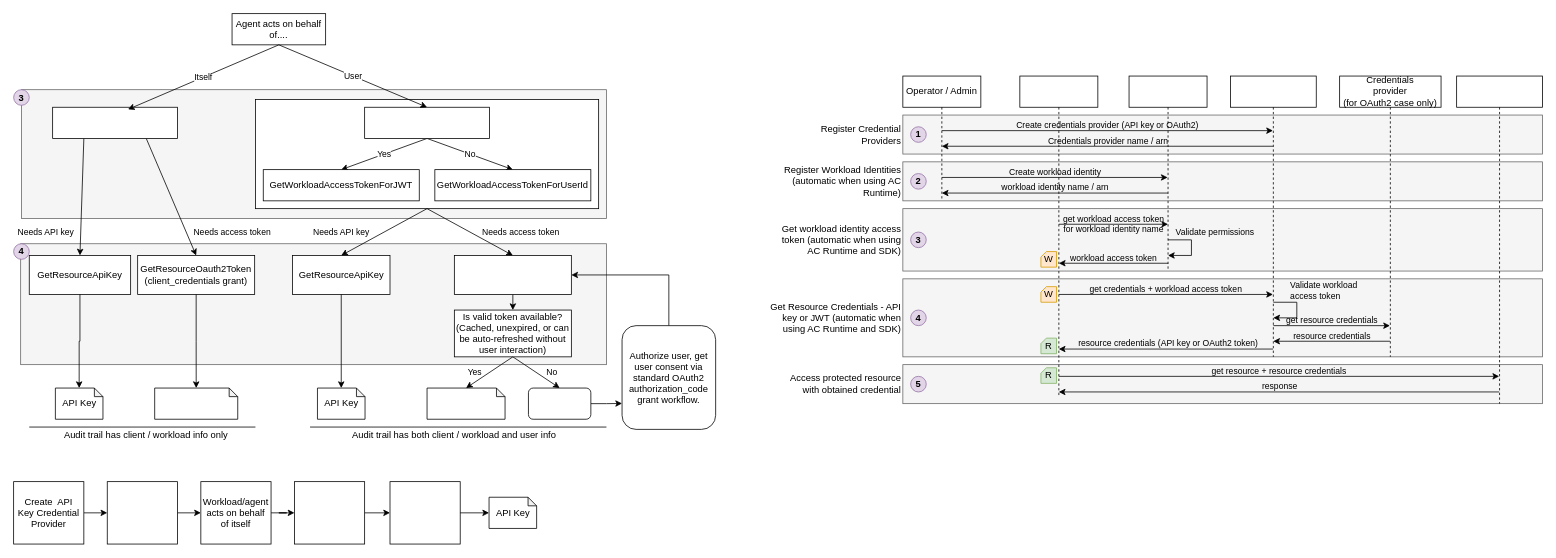
Image size: 1556x558. Some labels were removed from this diagram. Here are the shapes that lost their labels. From the top down, the box of each, then its label:
(52, 106, 177, 138): GetWorkloadAccessToken
(364, 106, 489, 138): Is JWT available?
(1128, 75, 1207, 271): Workload Identities Registry
(1019, 75, 1098, 396): Workload (e.g. Agent)
(1230, 75, 1316, 357): Credentials Providers Registry
(1456, 75, 1542, 404): Protected Resource
(454, 255, 571, 294): GetResourceOauth2Token (authorization_code grant with user federation)
(154, 387, 238, 419): access token sub=workload
(426, 387, 505, 419): access token sub=user
(528, 387, 591, 419): Authorization URL
(106, 481, 177, 544): Create a Workload Identity
(294, 481, 365, 544): Get Workload Access Token
(389, 481, 460, 544): Get Resource Credential (API Key) from Credential Provider
